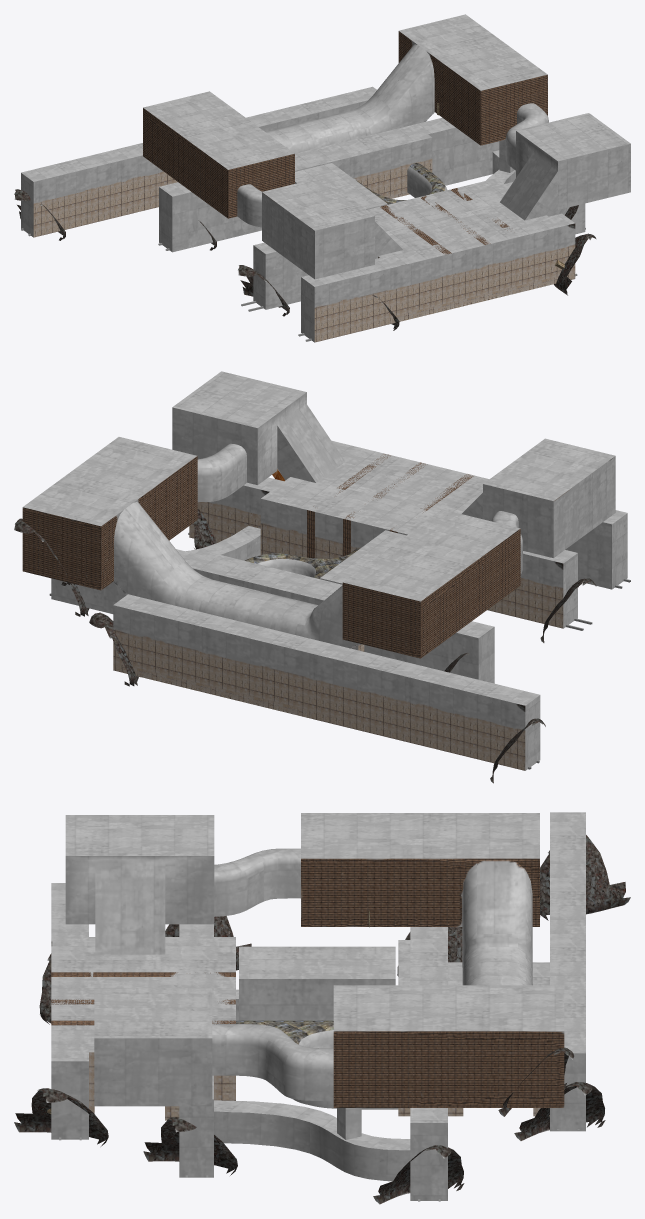
The model's file is MetroMap.fbx.
The picture shows the model from 3 angles, top to bottom: view 1: azimuth 30°, elevation 25°; view 2: azimuth 150°, elevation 25°; view 3: azimuth 270°, elevation 25°; orthographic projection. The views are drawn at different scales.
Parts seen in each view (by area): view 1: Куб.119; view 2: Куб.119; view 3: Куб.119.
Boxes of the visible parts, box(x1,y1,x2,y2) form: Куб.119: box(14, 14, 630, 342); Куб.119: box(14, 371, 630, 783); Куб.119: box(14, 812, 630, 1204).
Size of the model in its own units: 490 by 119 by 392.
